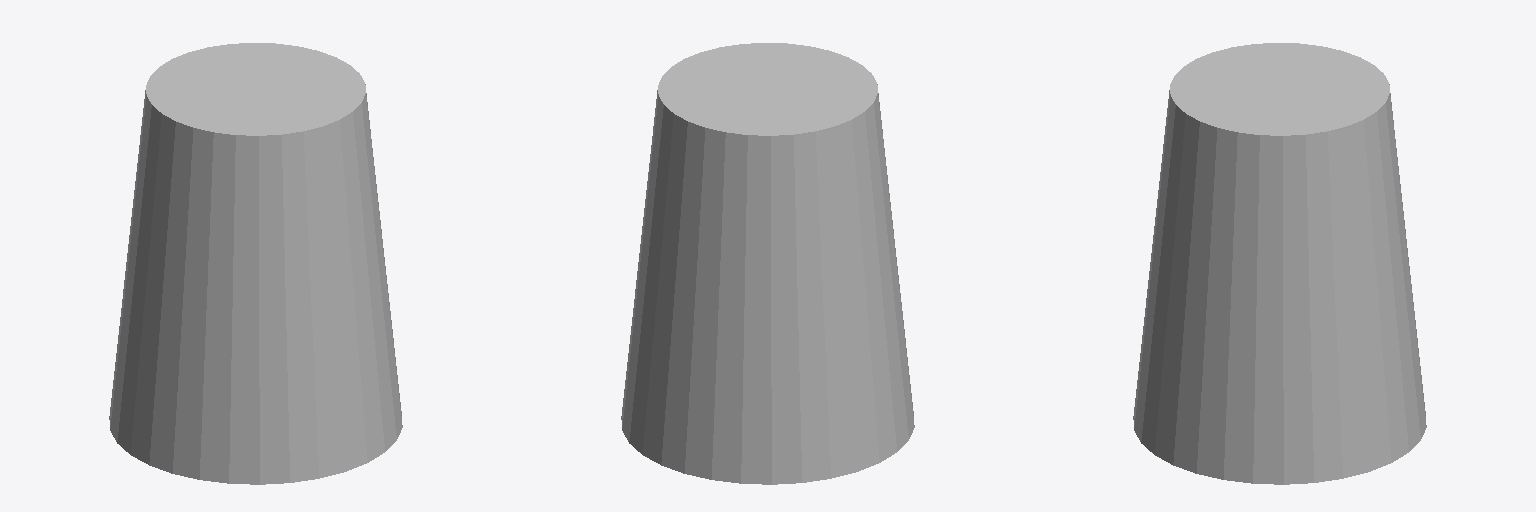
Rendered from PotardV_Cylinder.006.obj.
3 views of the same model, side by side, from view 1: azimuth 30°, elevation 25°; view 2: azimuth 150°, elevation 25°; view 3: azimuth 270°, elevation 25° (orthographic).
Parts seen in each view (by area): view 1: PotardV_Cylinder.006; view 2: PotardV_Cylinder.006; view 3: PotardV_Cylinder.006.
Boxes of the visible parts, <box> form: PotardV_Cylinder.006: <box>109,43,402,484</box>; PotardV_Cylinder.006: <box>621,43,914,484</box>; PotardV_Cylinder.006: <box>1133,43,1426,484</box>.
Size of the model in its own units: 0.04 by 0.05 by 0.0399.